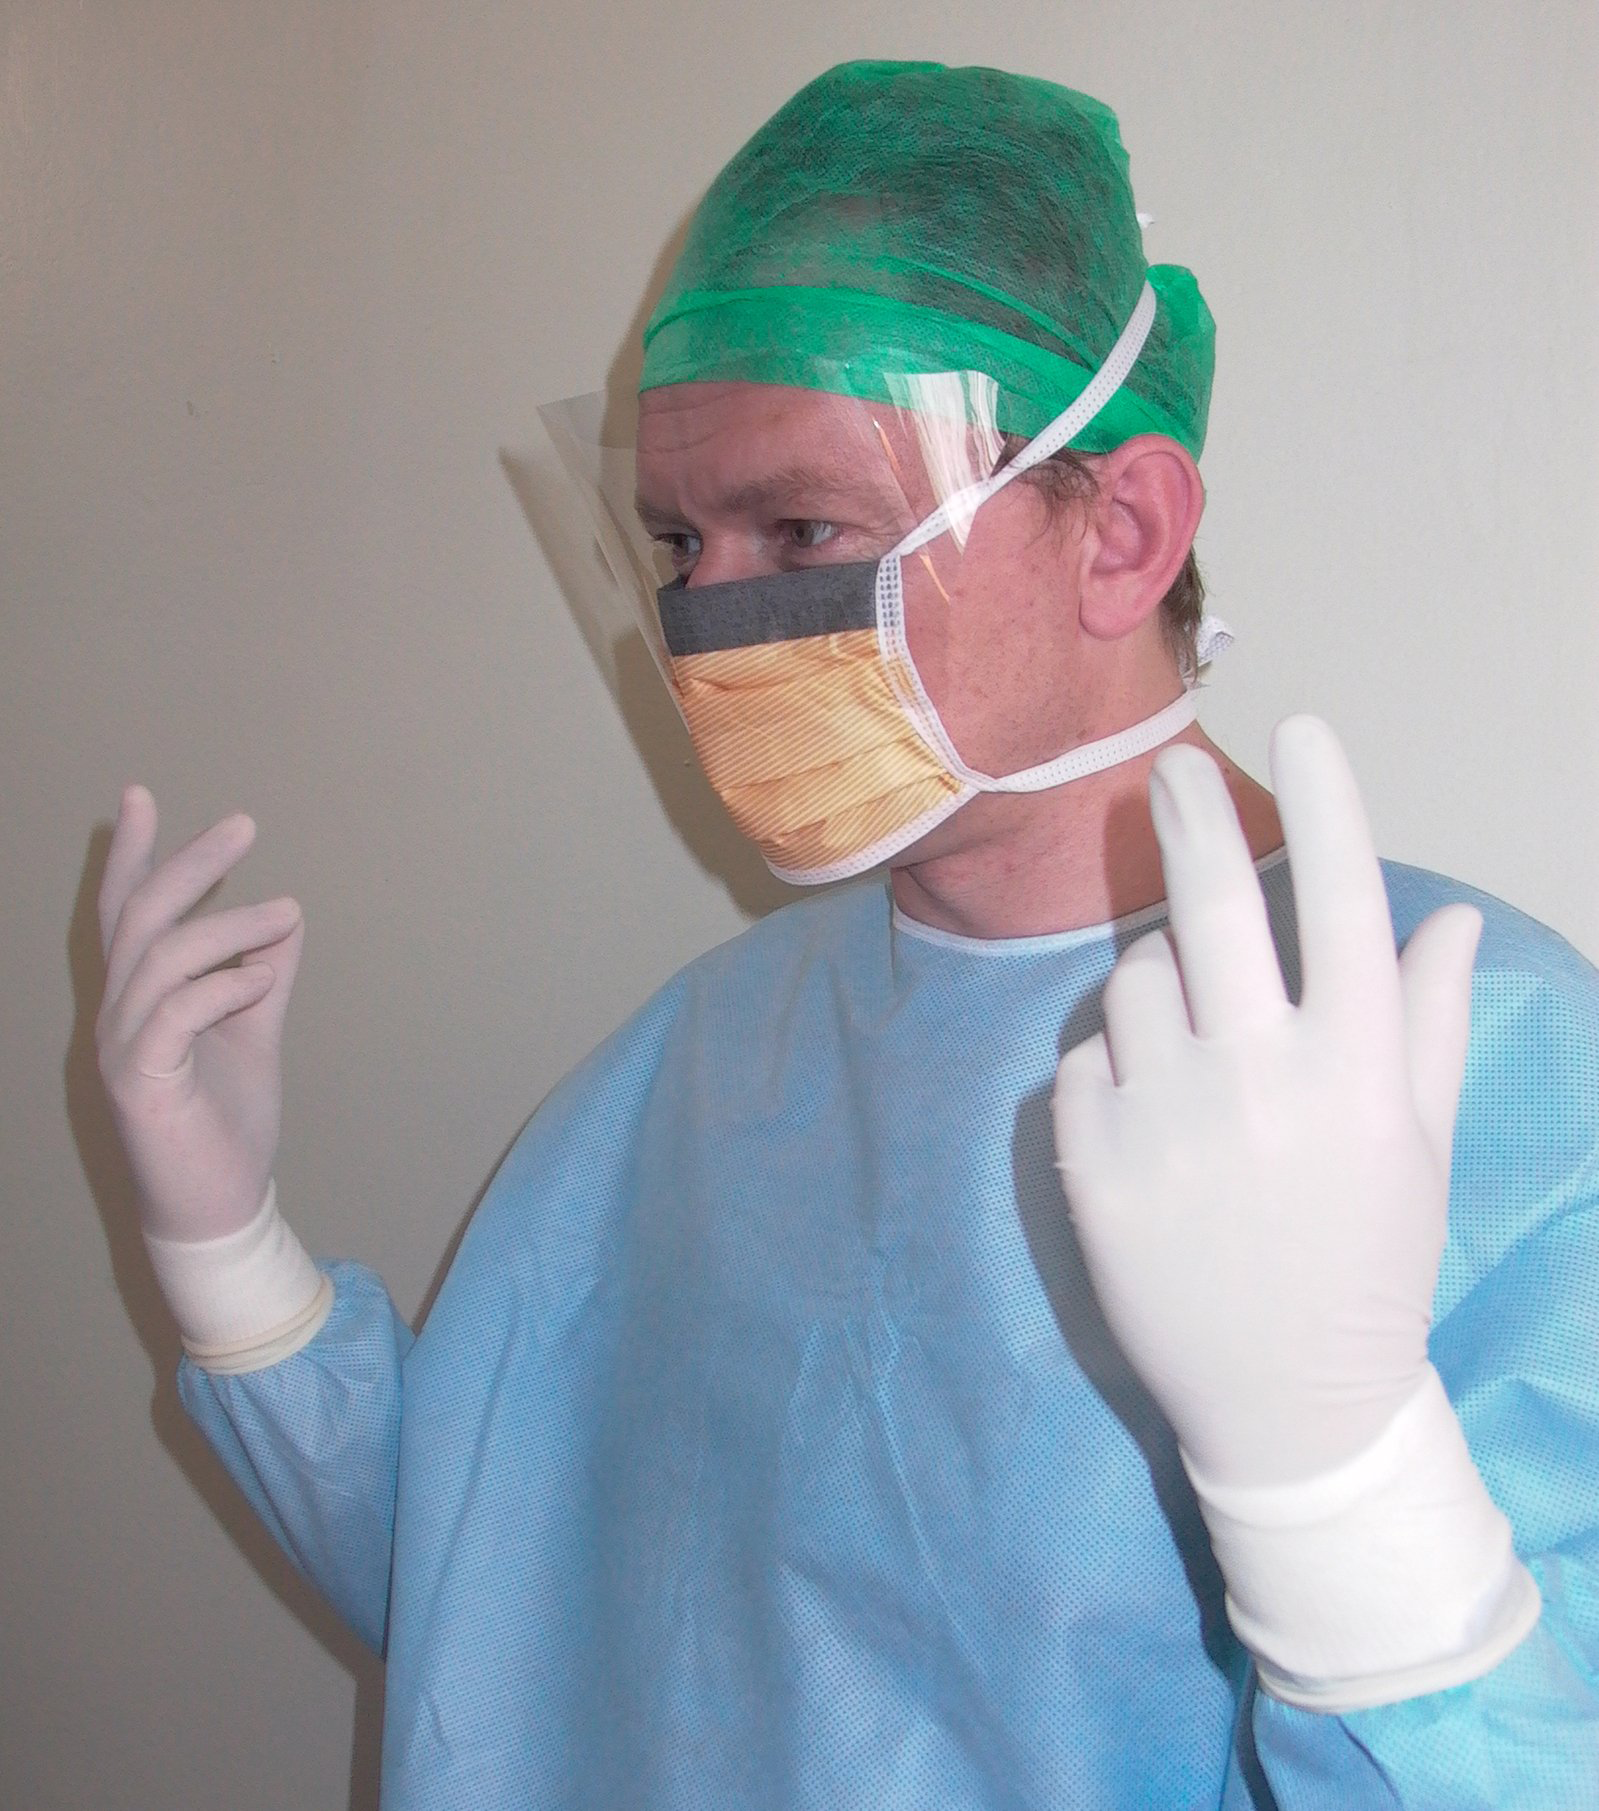Gloves: (1051, 735, 1507, 1688), (70, 769, 371, 1395)
with_mask: (638, 492, 979, 890)
